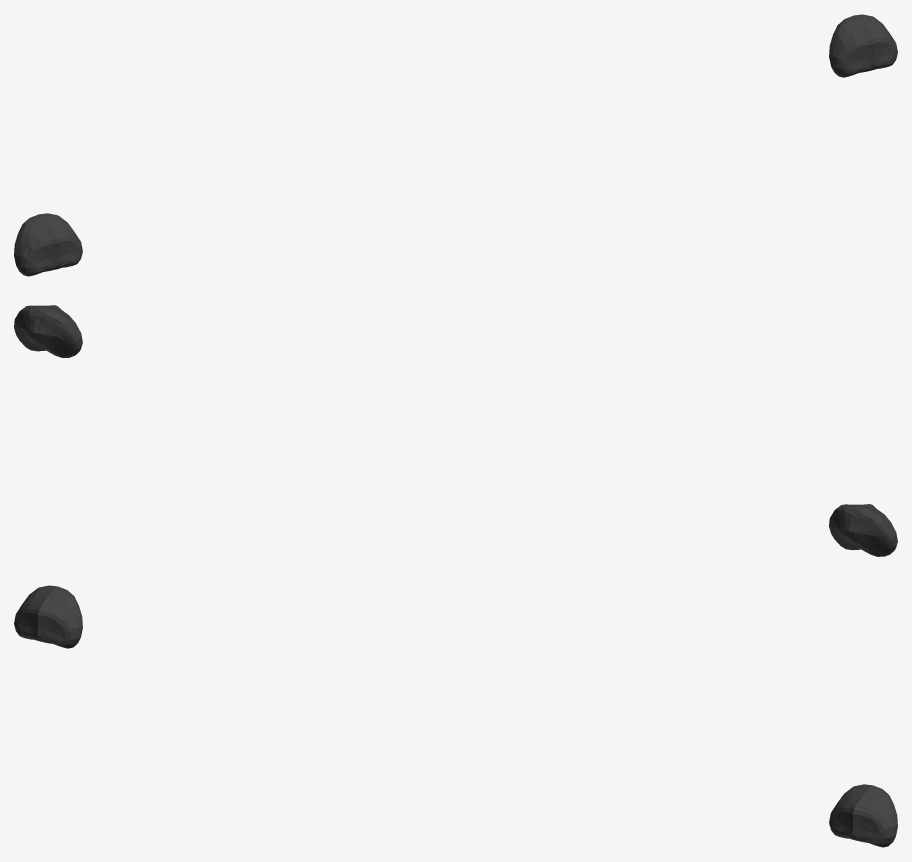
The model's file is b_tarsal_1_L_LO.glb.
3 renders of one model, top to bottom at view 1: azimuth 30°, elevation 25°; view 2: azimuth 150°, elevation 25°; view 3: azimuth 330°, elevation 25°, orthographic.
Visible parts, largest first — view 1: b_tarsal_1_L_LO; view 2: b_tarsal_1_L_LO; view 3: b_tarsal_1_L_LO.
Boxes of the visible parts, x1,y1,x2,y2 form: b_tarsal_1_L_LO: (14,14,897,276); b_tarsal_1_L_LO: (14,305,897,556); b_tarsal_1_L_LO: (14,585,897,847).
Bounding box in the file's own units: 0.00263 × 0.000145 × 0.000136.
1 material, 1 textured.
